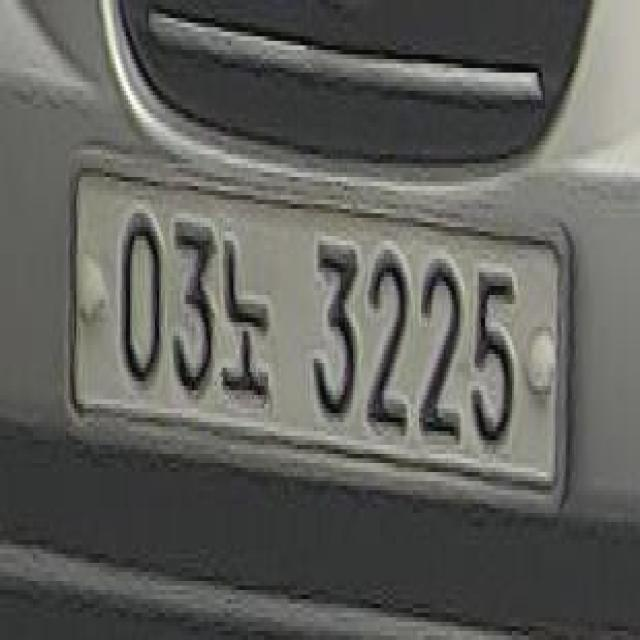illegal_plate: (70, 147, 568, 526)
